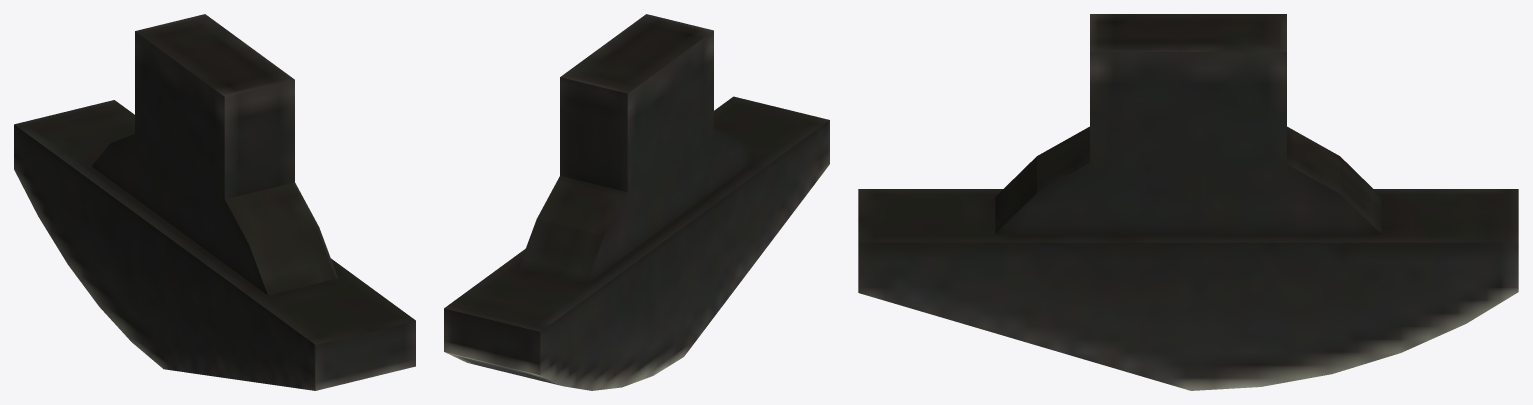
3 renders of one model, left to right at view 1: azimuth 30°, elevation 25°; view 2: azimuth 150°, elevation 25°; view 3: azimuth 270°, elevation 25°, orthographic. The views are drawn at different scales.
Parts seen in each view (by area): view 1: TW_5e81ee213397a21db957f6a6_PZ_Import; view 2: TW_5e81ee213397a21db957f6a6_PZ_Import; view 3: TW_5e81ee213397a21db957f6a6_PZ_Import.
Part boxes in pixels (x1,y1,x2,y2): TW_5e81ee213397a21db957f6a6_PZ_Import: [14, 14, 415, 390]; TW_5e81ee213397a21db957f6a6_PZ_Import: [444, 14, 829, 390]; TW_5e81ee213397a21db957f6a6_PZ_Import: [858, 14, 1518, 390].
Bounding box in the file's own units: 0.00117 × 0.00611 × 0.00338.
Materials: 1 (1 with a texture image).
